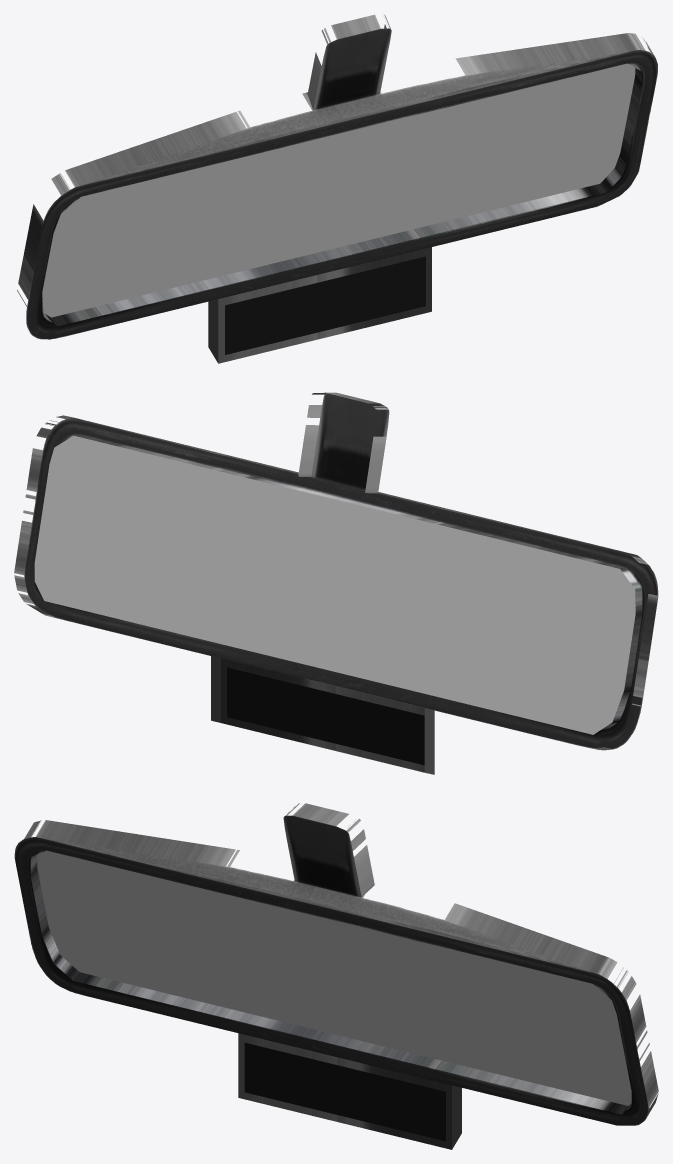
The model's file is Retro.fbx.
3 renders of one model, top to bottom at view 1: azimuth 30°, elevation 25°; view 2: azimuth 150°, elevation 25°; view 3: azimuth 330°, elevation 25°, orthographic.
Parts seen in each view (by area): view 1: Retro; view 2: Retro; view 3: Retro.
Part boxes in pixels (box(x1,y1,x2,y2)): Retro: box(17, 14, 657, 363); Retro: box(14, 392, 658, 774); Retro: box(14, 803, 658, 1149).
Size of the model in its own units: 273 by 141 by 32.47.
3 materials, 1 textured.
